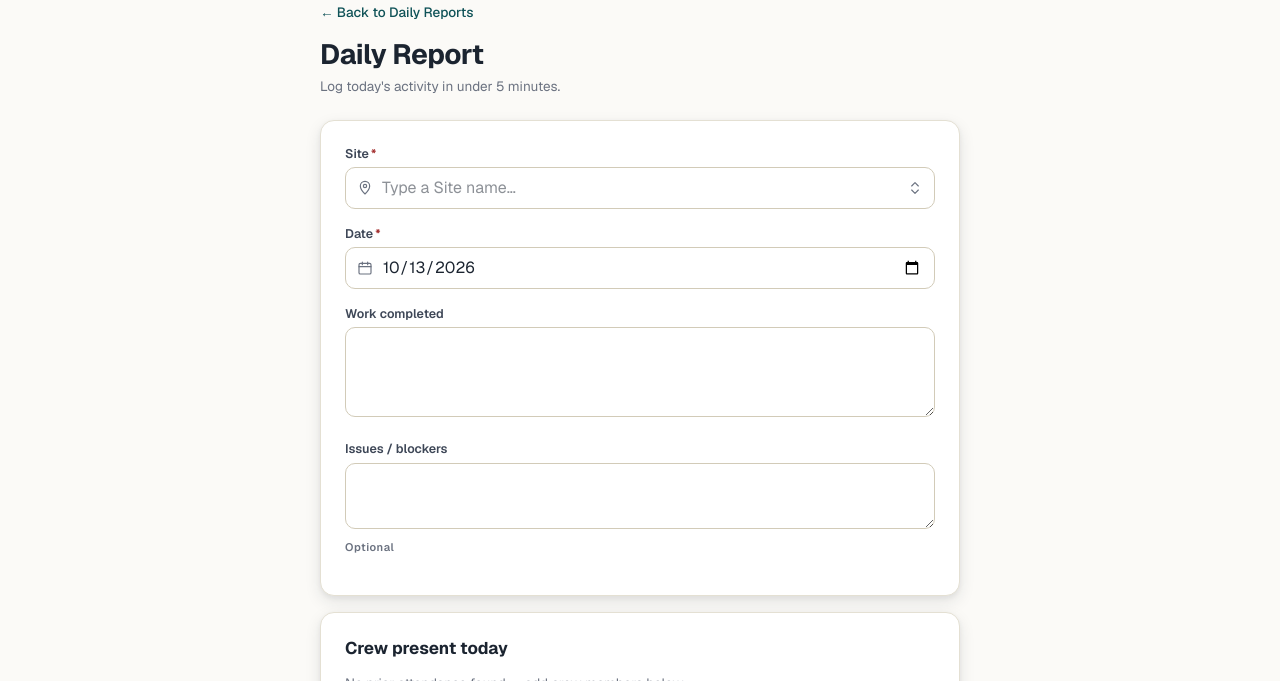
Scenario: NewDsrPage › shows the "Synced" state when the submission reaches the server successfully
The image size is (1280, 681).
Type "NH" into the dropdown labelled "Site" at (640, 188), box [345,167,935,209]
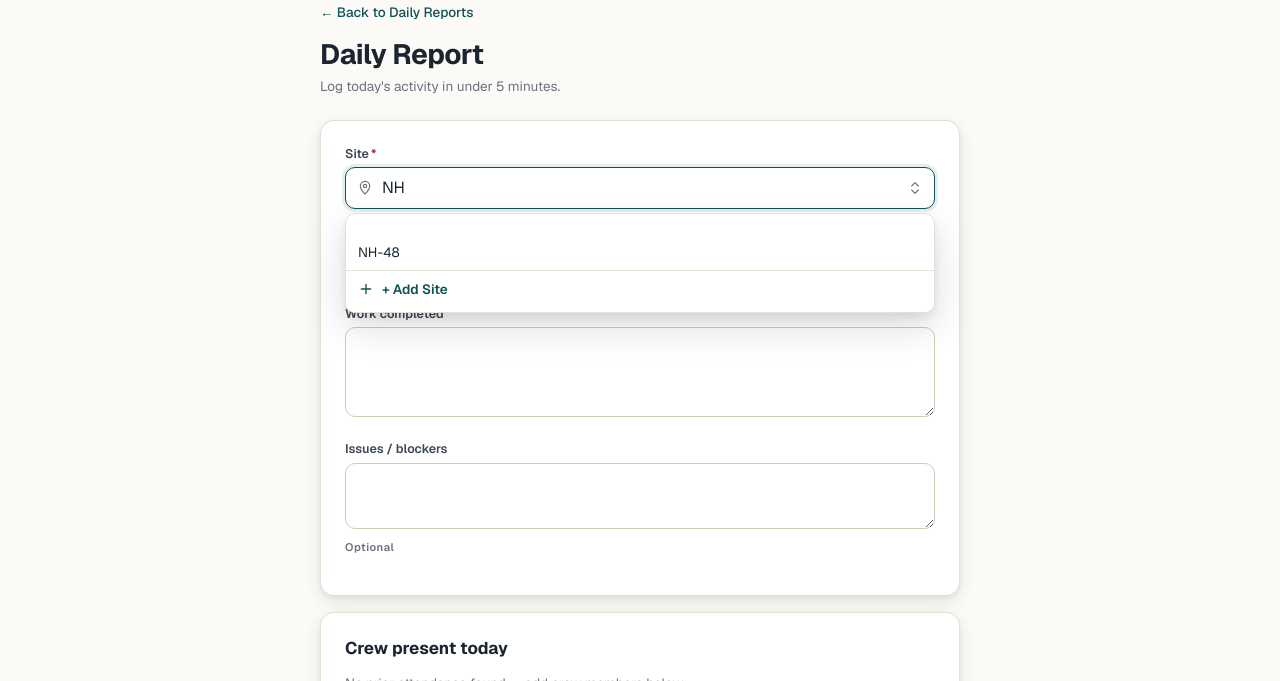
Click the option "NH-48" at (379, 252), box [358,243,400,261]
(page scrolled)
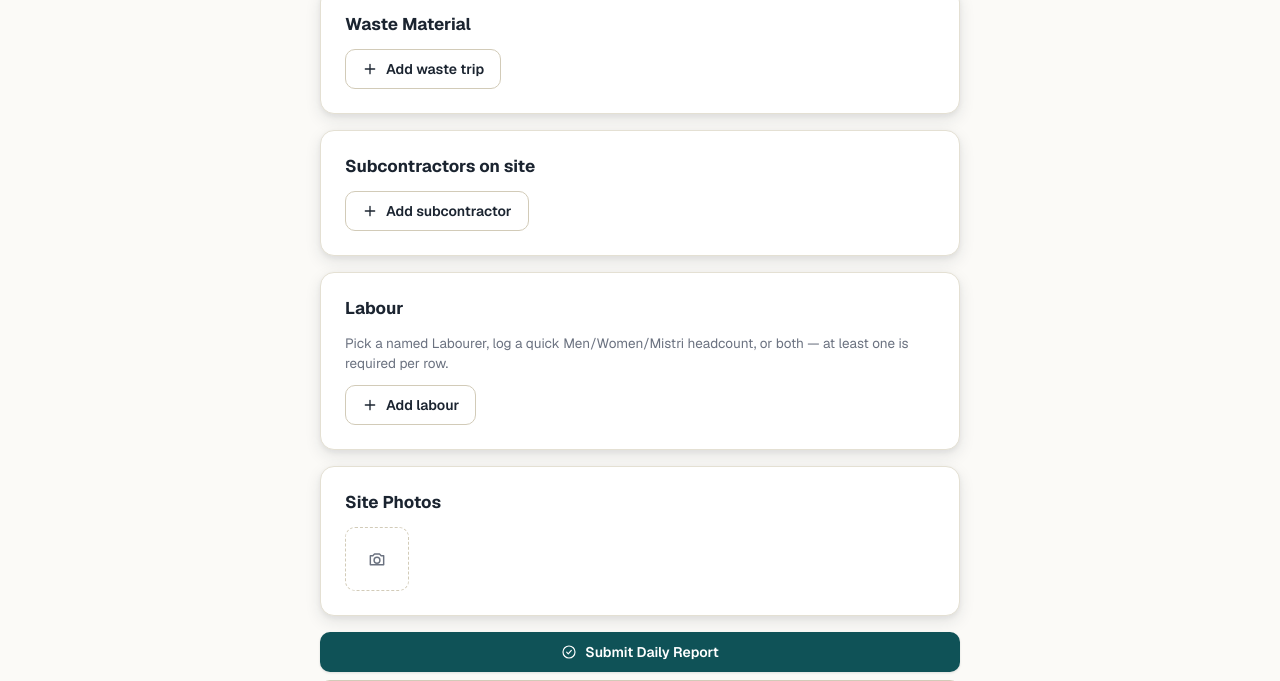
Click the button "Submit Daily Report" at (640, 652), box [320,632,960,672]
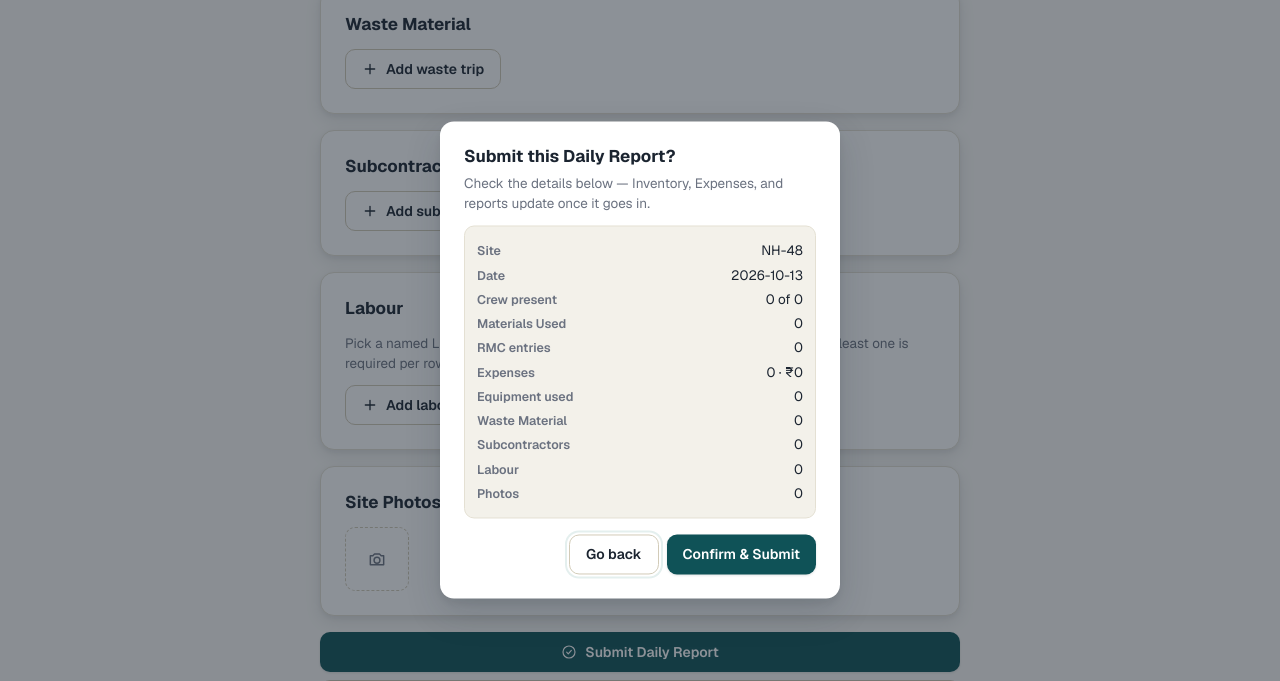
# The playback dialog now guards submission — confirm to proceed.
Click the button "Confirm & Submit" at (741, 554), box [667,534,816,574]
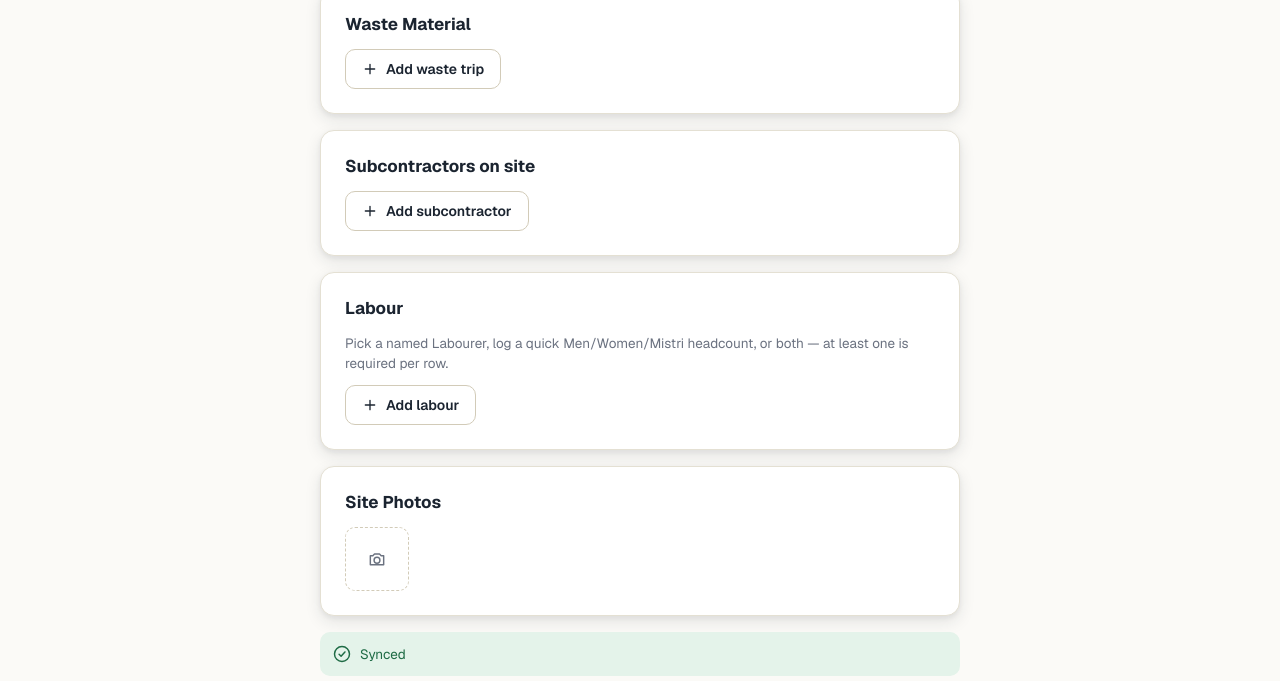
Result: the text "Synced" is shown at [320,632,960,676]
